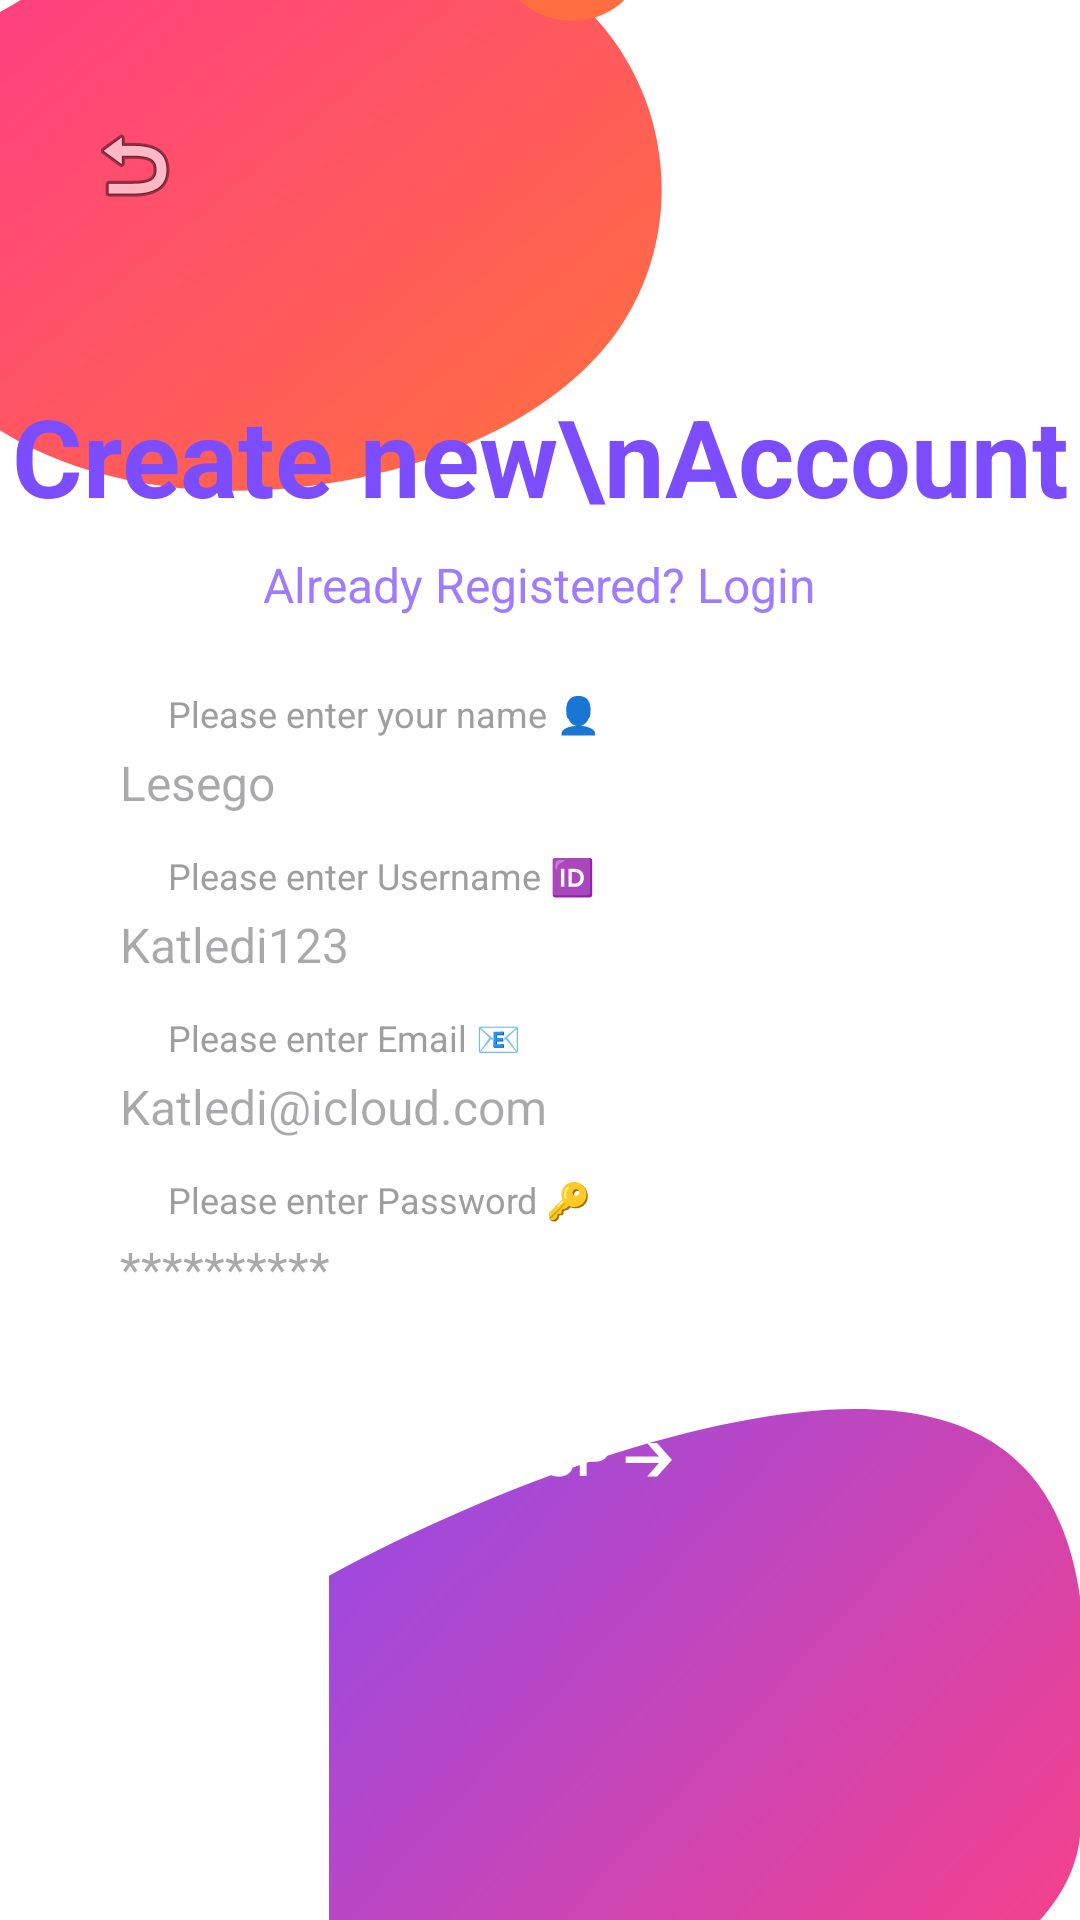

Where icons sit on this 1080*1920 app screen, as (x1, y1, x2, y2):
Back: (101, 134, 170, 197)
